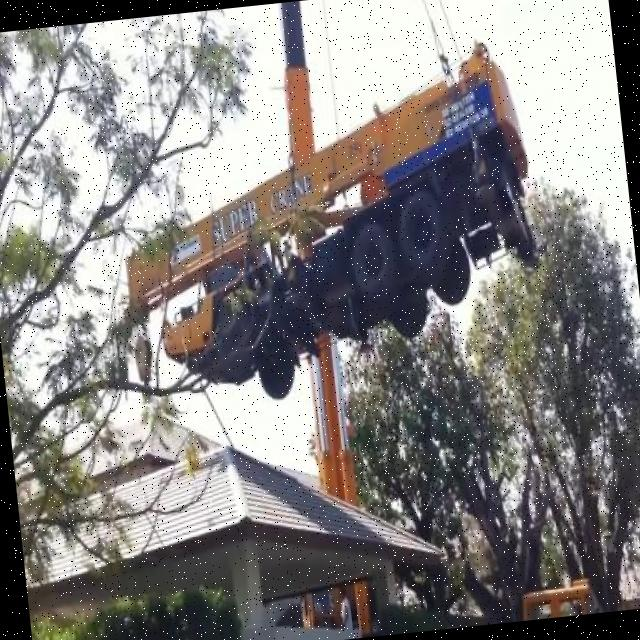Mobile Crane: (101, 39, 546, 413)
